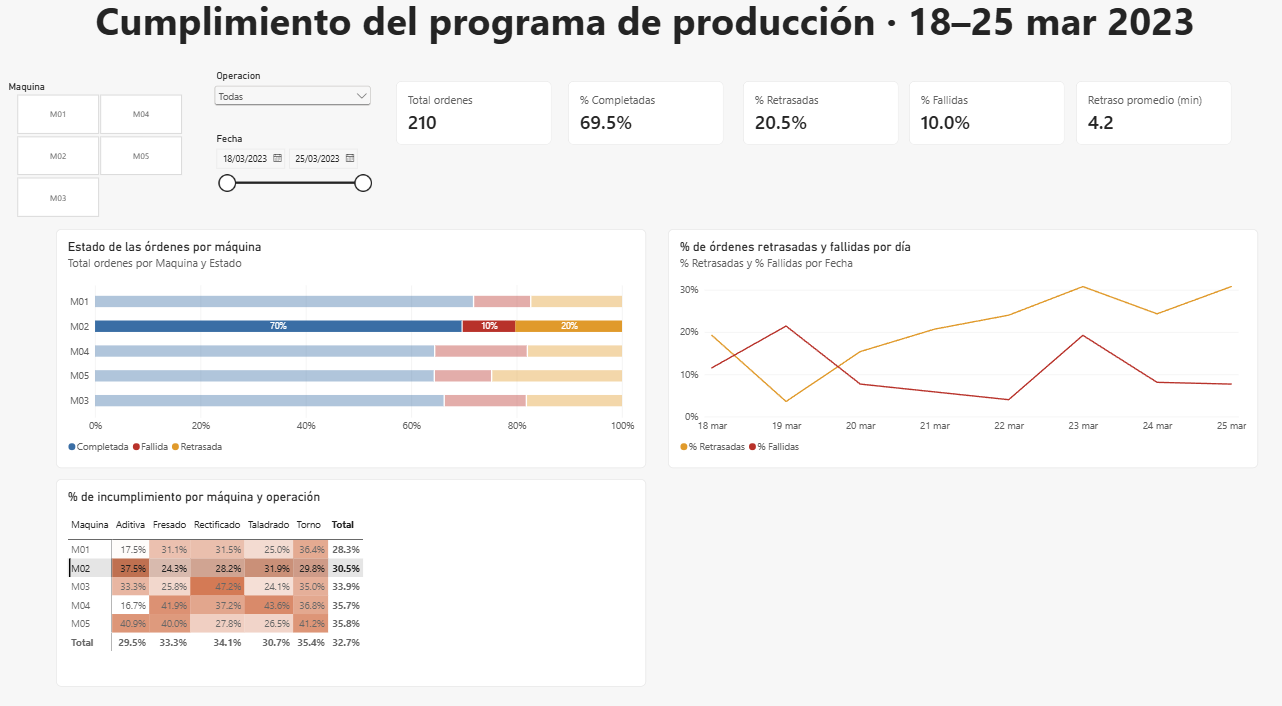

What the dashboard file says about the page in this screenshot:
{"tool":"powerbi","page":{"name":"Cumplimiento del programa","canvas":[1920,1080],"ordinal":0},"visuals":[{"type":"textbox","box":[54,0,1810.6,89],"z":1},{"type":"cardVisual","fields":{"Data":["ordenes_para_bi.Total ordenes (texto)"]},"box":[645.9,126.9,227.6,93.4],"z":8},{"type":"cardVisual","fields":{"Data":["ordenes_para_bi.% Completadas"]},"box":[883.7,126.9,227.6,93.4],"z":13},{"type":"cardVisual","fields":{"Data":["ordenes_para_bi.% Retrasadas"]},"box":[1122.9,126.9,227.6,93.4],"z":14},{"type":"cardVisual","fields":{"Data":["ordenes_para_bi.% Fallidas"]},"box":[1365.1,126.9,227.6,93.4],"z":15},{"type":"cardVisual","fields":{"Data":["ordenes_para_bi.Retraso promedio (min)"]},"box":[1602.9,126.9,227.6,93.4],"z":16},{"type":"slicer","fields":{"Values":["ordenes_para_bi.Operacion"]},"box":[389.1,128.4,237.8,91.9],"z":17},{"type":"textbox","box":[1329.1,1041.7,588,37.9],"z":19},{"type":"slicer","fields":{"Values":["ordenes_para_bi.Maquina"]},"box":[88.5,128.4,280.1,199.9],"z":20},{"type":"slicer","fields":{"Values":["ordenes_para_bi.Fecha"]},"box":[389.1,220.3,237.8,106.5],"z":21},{"type":"hundredPercentStackedBarChart","title":"Estado de las órdenes por máquina","fields":{"Category":["ordenes_para_bi.Maquina"],"Series":["ordenes_para_bi.Estado"],"Y":["ordenes_para_bi.Total ordenes"]},"box":[78.3,342.9,860.8,348.7],"z":22},{"type":"lineChart","title":"% de órdenes retrasadas y fallidas por día","fields":{"Category":["ordenes_para_bi.Fecha.Variation.Jerarquía de fechas.Año"],"Y":["ordenes_para_bi.% Retrasadas","ordenes_para_bi.% Fallidas"]},"box":[971.2,342.9,860.8,348.7],"z":23},{"type":"pivotTable","title":"% de incumplimiento por máquina y operación","fields":{"Columns":["ordenes_para_bi.Operacion"],"Rows":["ordenes_para_bi.Maquina"],"Values":["ordenes_para_bi.% Incumplimiento"]},"box":[78.3,707.6,860.8,303.5],"z":24}]}

Visuals, with their boxes in screenshot pixels (x1, y1, x2, y2), scaled from the page's 1920x1080 canvas onto the 1282x706 screenshot:
textbox: <box>36,0,1245,58</box>
cardVisual - ordenes_para_bi.Total ordenes (texto): <box>431,83,583,144</box>
cardVisual - ordenes_para_bi.% Completadas: <box>590,83,742,144</box>
cardVisual - ordenes_para_bi.% Retrasadas: <box>750,83,902,144</box>
cardVisual - ordenes_para_bi.% Fallidas: <box>911,83,1063,144</box>
cardVisual - ordenes_para_bi.Retraso promedio (min): <box>1070,83,1222,144</box>
slicer - ordenes_para_bi.Operacion: <box>260,84,419,144</box>
textbox: <box>887,681,1280,705</box>
slicer - ordenes_para_bi.Maquina: <box>59,84,246,215</box>
slicer - ordenes_para_bi.Fecha: <box>260,144,419,214</box>
"Estado de las órdenes por máquina" hundredPercentStackedBarChart: <box>52,224,627,452</box>
"% de órdenes retrasadas y fallidas por día" lineChart: <box>648,224,1223,452</box>
"% de incumplimiento por máquina y operación" pivotTable: <box>52,463,627,661</box>
